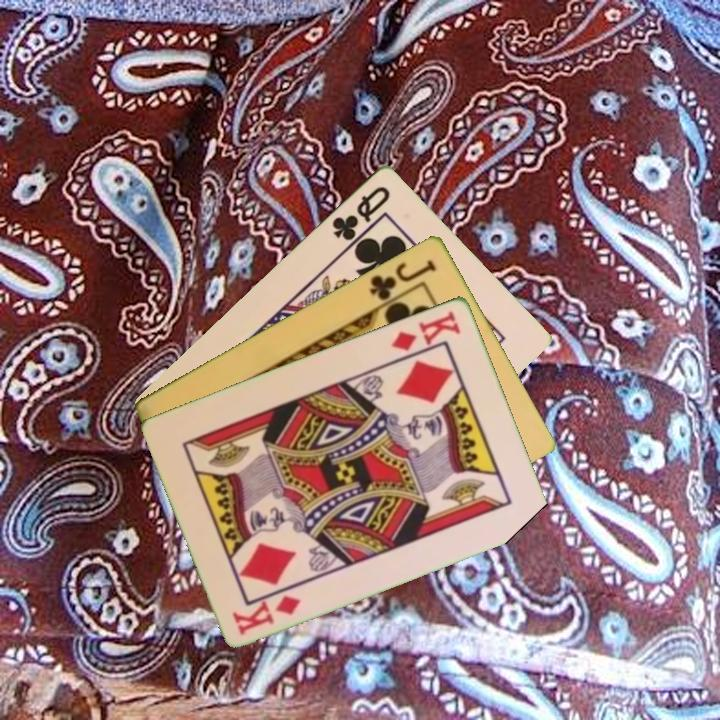Jc: (365, 255, 439, 303)
Kd: (388, 306, 464, 354), (229, 591, 305, 637)
Qc: (328, 182, 393, 244)
